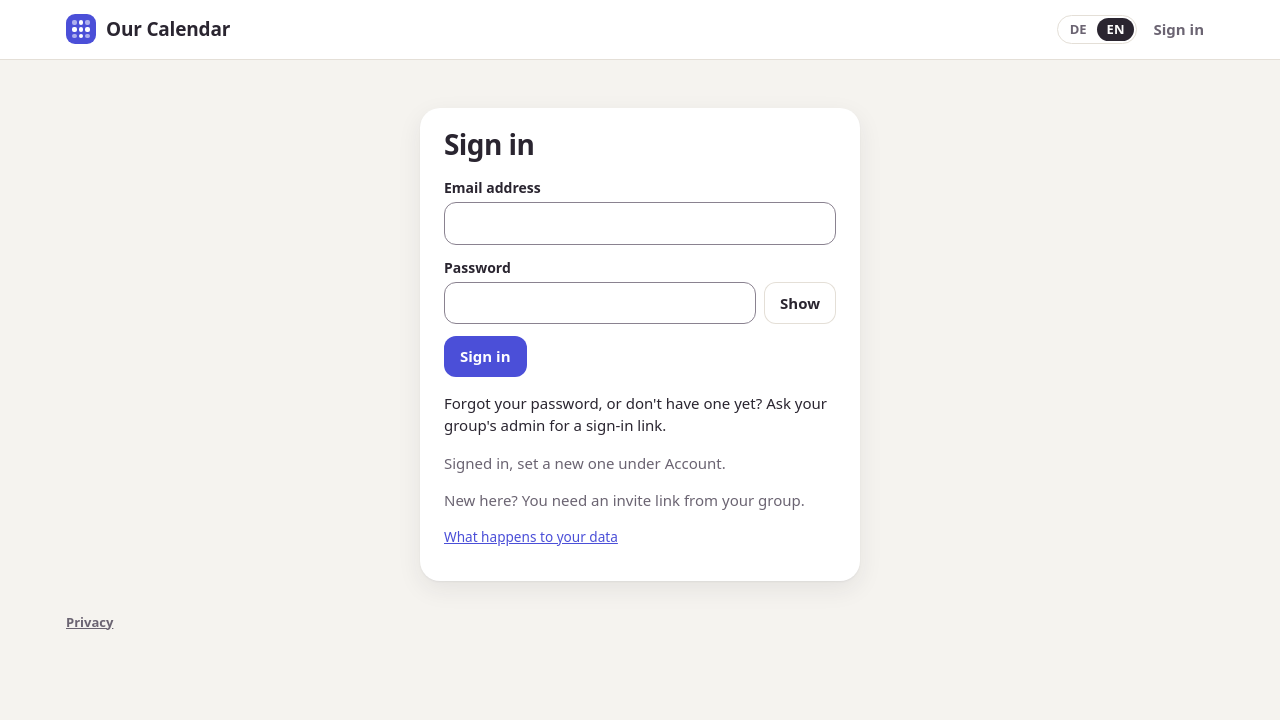
Test: a wrong password says so
In the field labelled "Email address": (640, 223) left=444, top=202, right=836, bottom=245, type "ben@test.de"
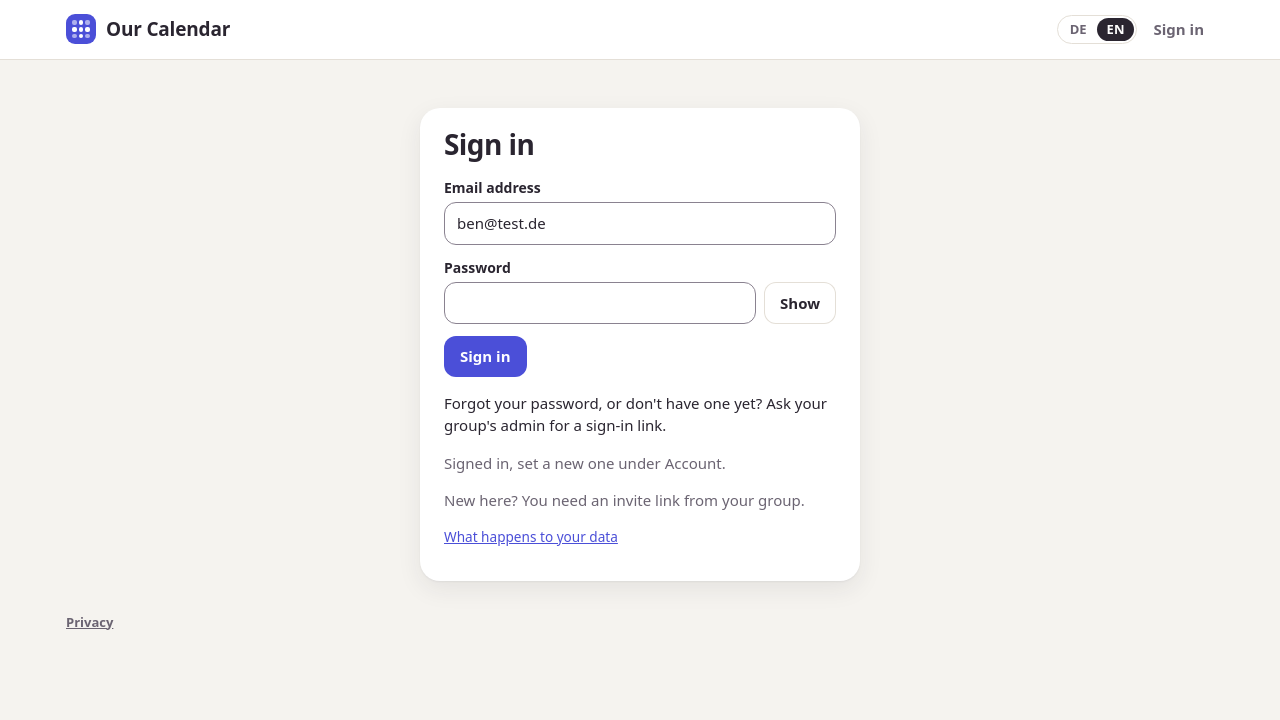
In the password field labelled "Password": (600, 303) left=444, top=282, right=756, bottom=324, type "falsch123"
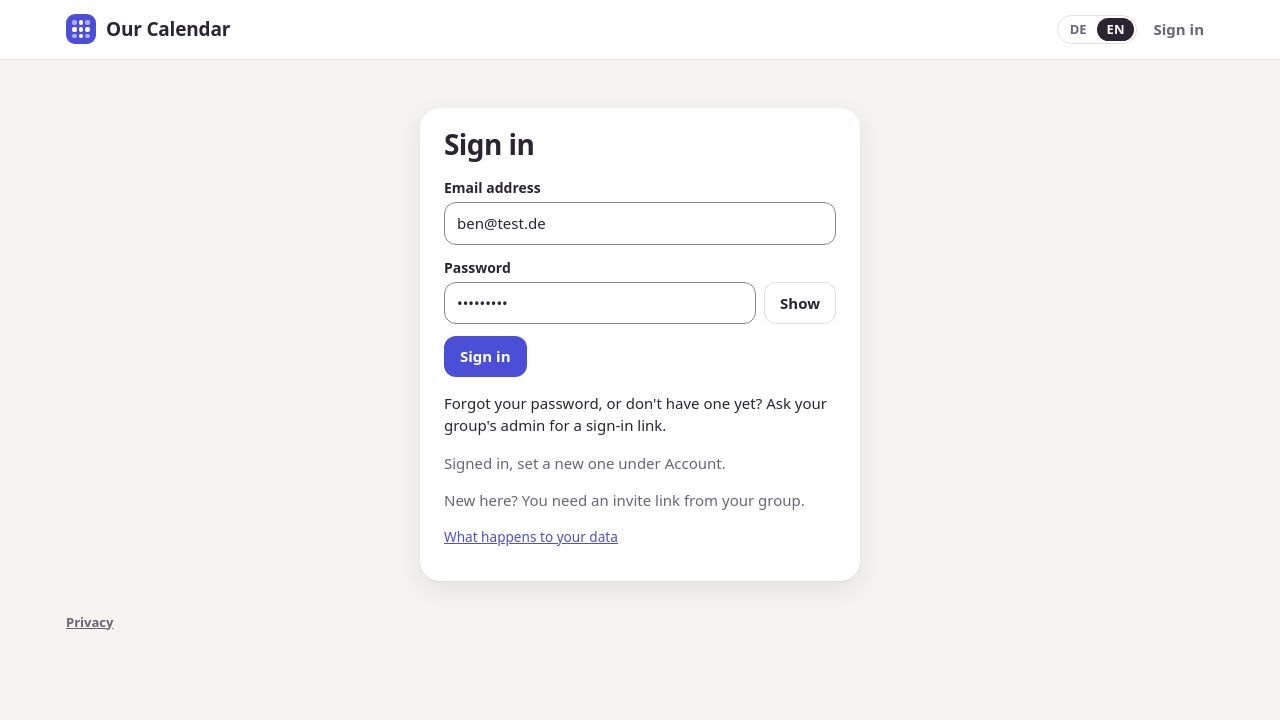
Click the button "Sign in": (485, 356) left=444, top=336, right=526, bottom=377
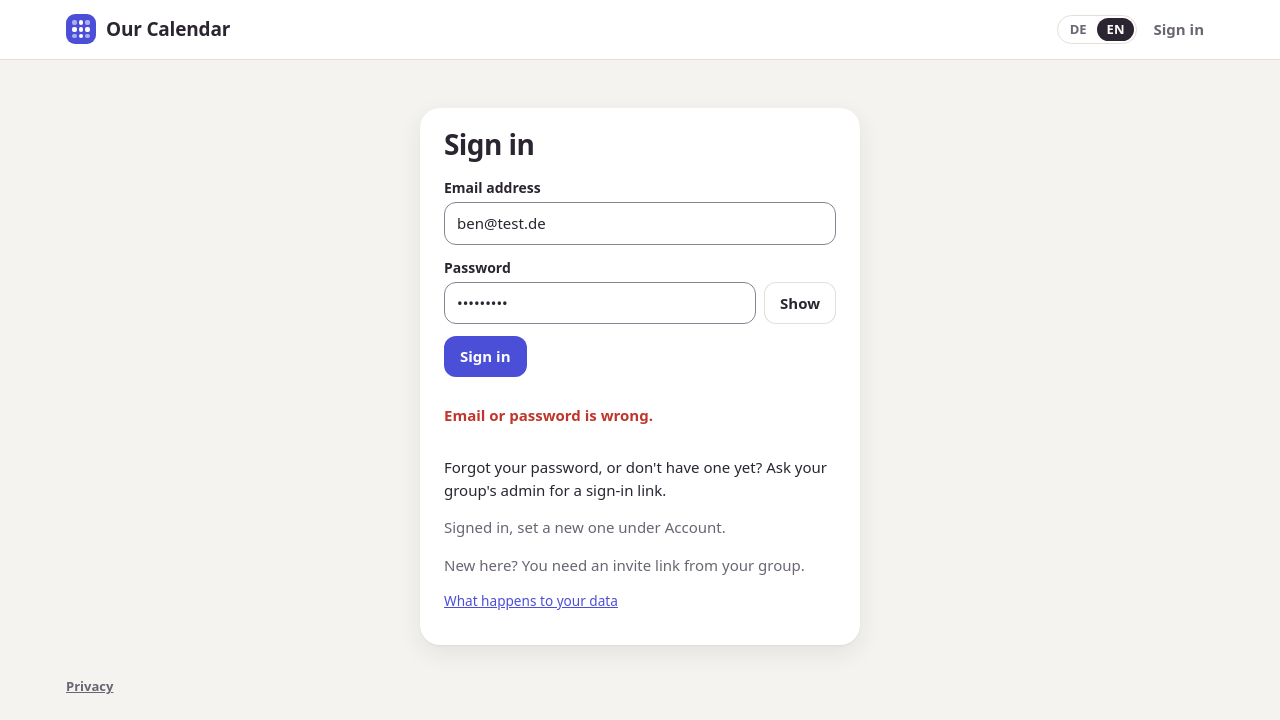
Expected: the message reads "Email or password is wrong.", left=444, top=405, right=653, bottom=425
